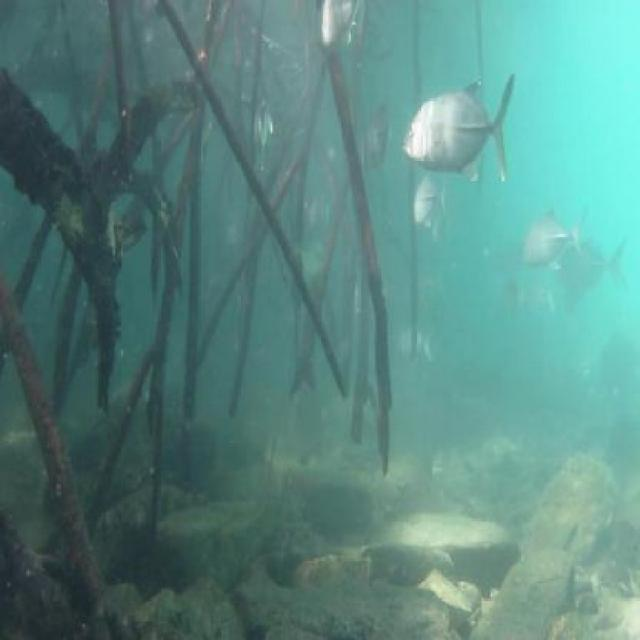Caranx_sexfasciatus_juvenile: (404, 70, 521, 198), (558, 227, 634, 301), (518, 204, 584, 274), (310, 0, 372, 68), (402, 163, 452, 242), (352, 101, 397, 188), (248, 86, 286, 174), (504, 278, 559, 338), (300, 176, 338, 250), (390, 313, 432, 365)
